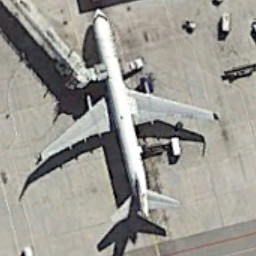Airplane: (24, 5, 230, 240)
